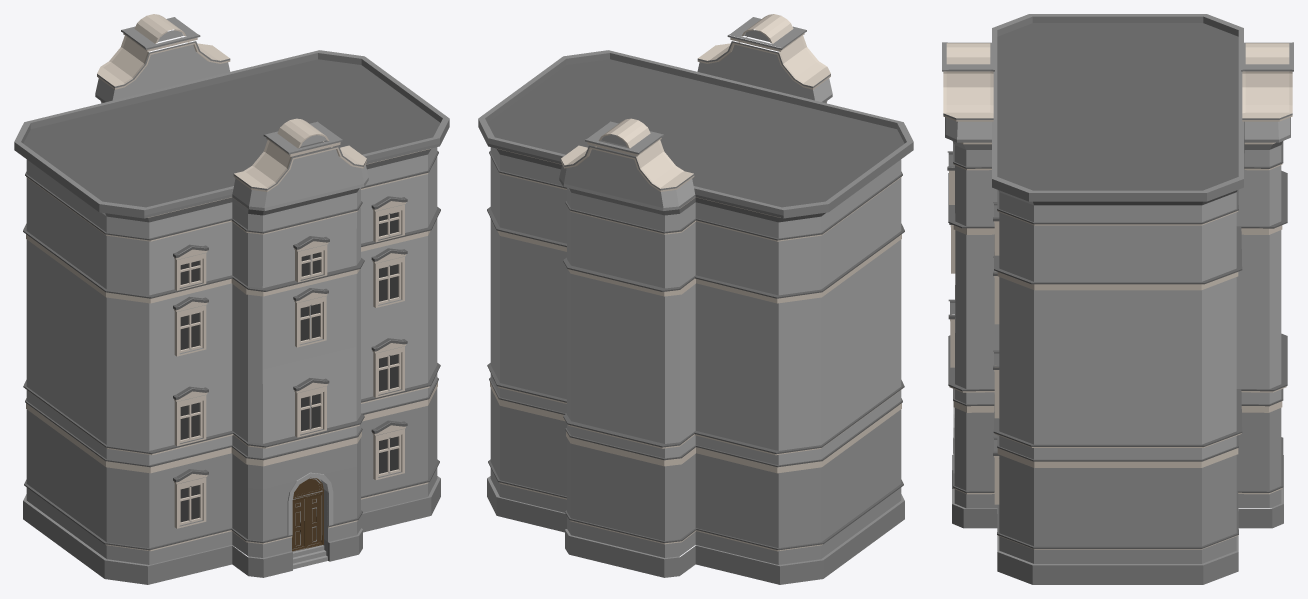
The model's file is eu_block_a.glb.
3 views of the same model, side by side, from view 1: azimuth 30°, elevation 25°; view 2: azimuth 150°, elevation 25°; view 3: azimuth 270°, elevation 25° (orthographic). The views are drawn at different scales.
Visible parts, largest first — view 1: Building4; view 2: Building4; view 3: Building4.
Part boxes in pixels (<box>): Building4: <box>14,14,449,584</box>; Building4: <box>478,14,913,584</box>; Building4: <box>942,14,1293,584</box>.
Bounding box in the file's own units: 4.64 × 5.49 × 3.86.
